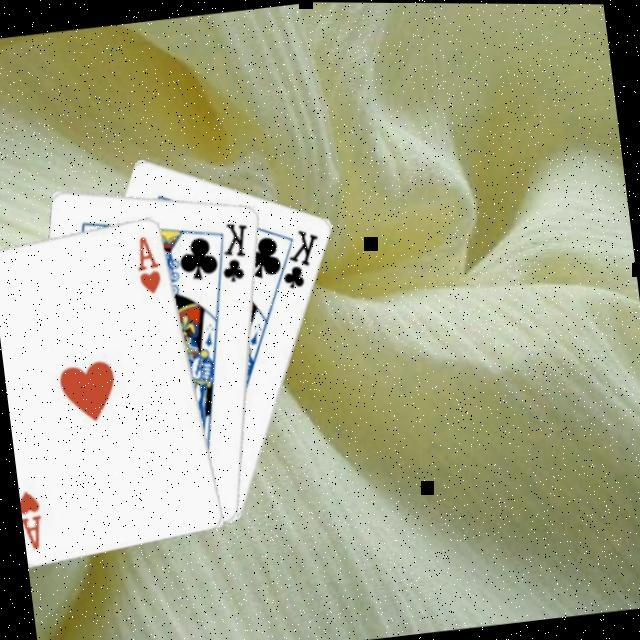AH: (132, 231, 167, 297), (18, 486, 51, 553)
KC: (266, 224, 328, 293), (208, 217, 258, 290)
